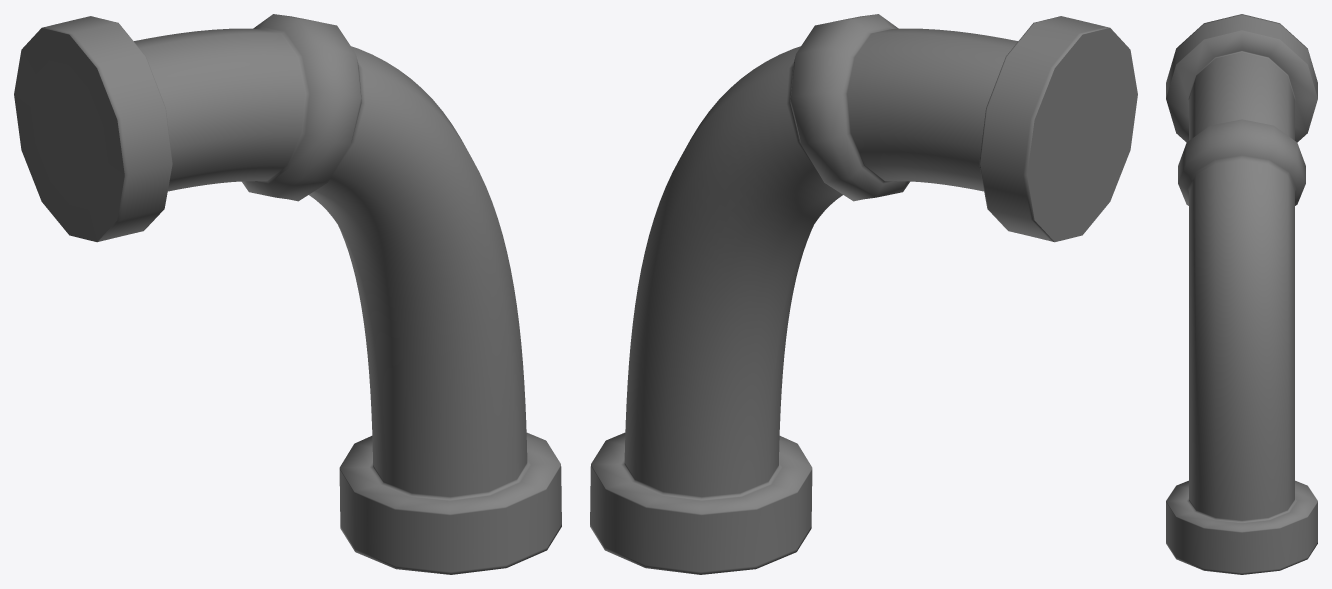
The model's file is Pipe_03 - Copy.fbx.
3 renders of one model, left to right at view 1: azimuth 30°, elevation 25°; view 2: azimuth 150°, elevation 25°; view 3: azimuth 270°, elevation 25°, orthographic. The views are drawn at different scales.
Visible parts, largest first — view 1: Pipe_03; view 2: Pipe_03; view 3: Pipe_03.
Boxes of the visible parts, left/top/right/bottom form: Pipe_03: left=14, top=14, right=561, bottom=574; Pipe_03: left=590, top=14, right=1137, bottom=574; Pipe_03: left=1166, top=14, right=1317, bottom=574.
Size of the model in its own units: 75.09 by 88.2 by 30.17.
